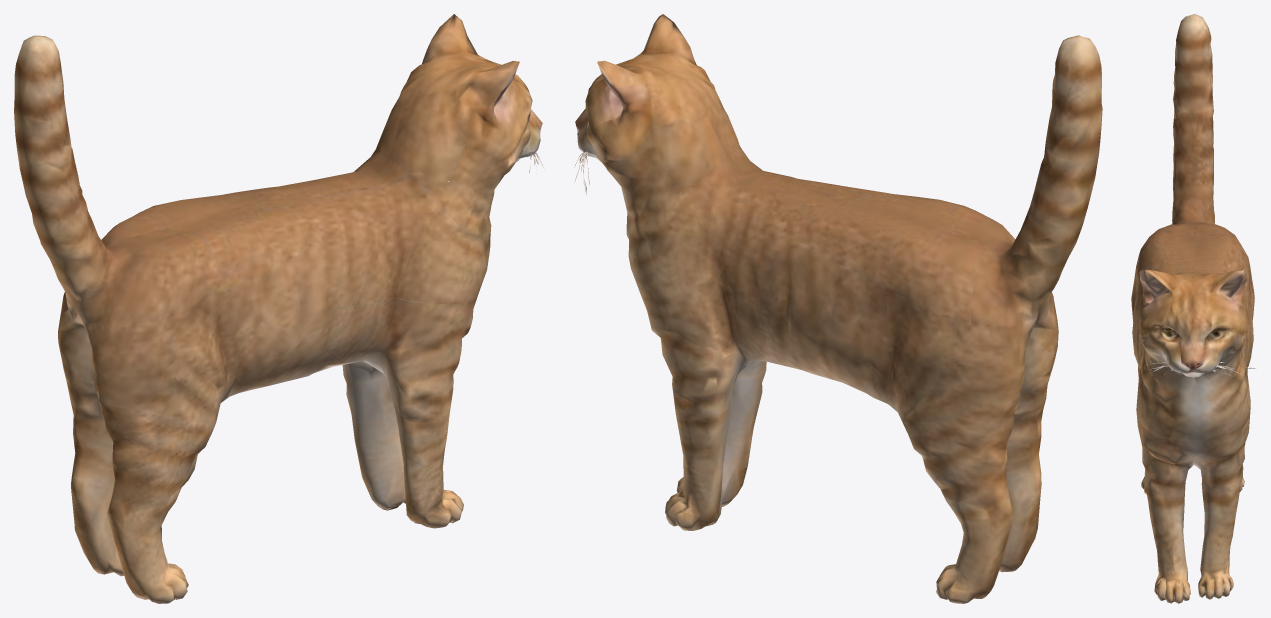
Rendered from ORANGEY-lo.glb.
3 renders of one model, left to right at view 1: azimuth 30°, elevation 25°; view 2: azimuth 150°, elevation 25°; view 3: azimuth 270°, elevation 25°, orthographic. The views are drawn at different scales.
Visible parts, largest first — view 1: tripo_node_d8edb16e-315b-402f-bc6f-e334517b3af8; view 2: tripo_node_d8edb16e-315b-402f-bc6f-e334517b3af8; view 3: tripo_node_d8edb16e-315b-402f-bc6f-e334517b3af8.
Boxes of the visible parts, box(x1,y1,x2,y2) form: tripo_node_d8edb16e-315b-402f-bc6f-e334517b3af8: box(14, 14, 543, 603); tripo_node_d8edb16e-315b-402f-bc6f-e334517b3af8: box(574, 14, 1102, 603); tripo_node_d8edb16e-315b-402f-bc6f-e334517b3af8: box(1131, 14, 1255, 603).
Bounding box in the file's own units: 0.9559 × 0.9985 × 0.2585.
1 material, 1 textured.
